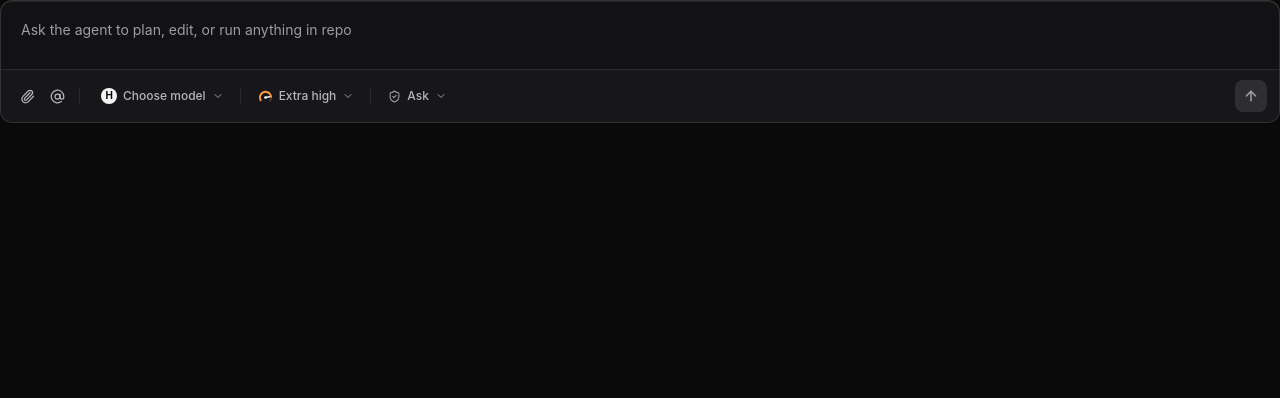
EffortPicker › picks a level with one click and closes, back on the chip, with no special treatment for the top tier
Step 1. Click the button with aria-label "Reasoning effort" → (305, 96), box [247,82,364,110]
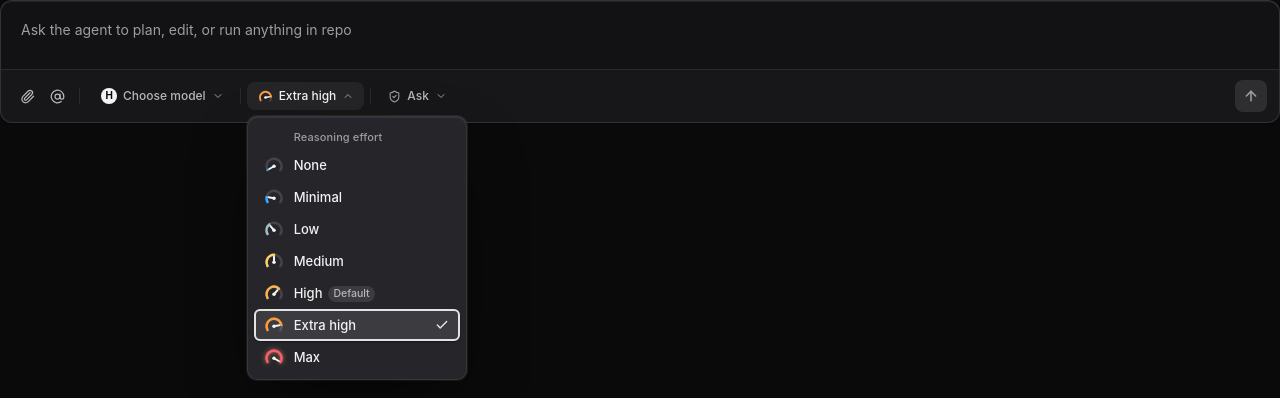
Step 2. Click the option "Max" → (357, 357), box [254,341,460,373]
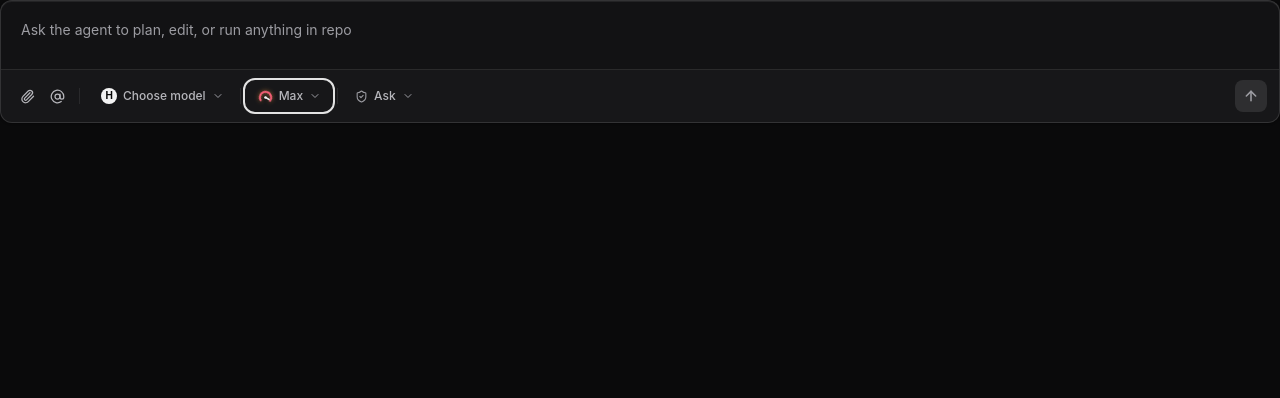
Expected: the button with aria-label "Reasoning effort" is collapsed, [247,82,331,110]
Expected: the button with aria-label "Reasoning effort" reads "Max", [247,82,331,110]
